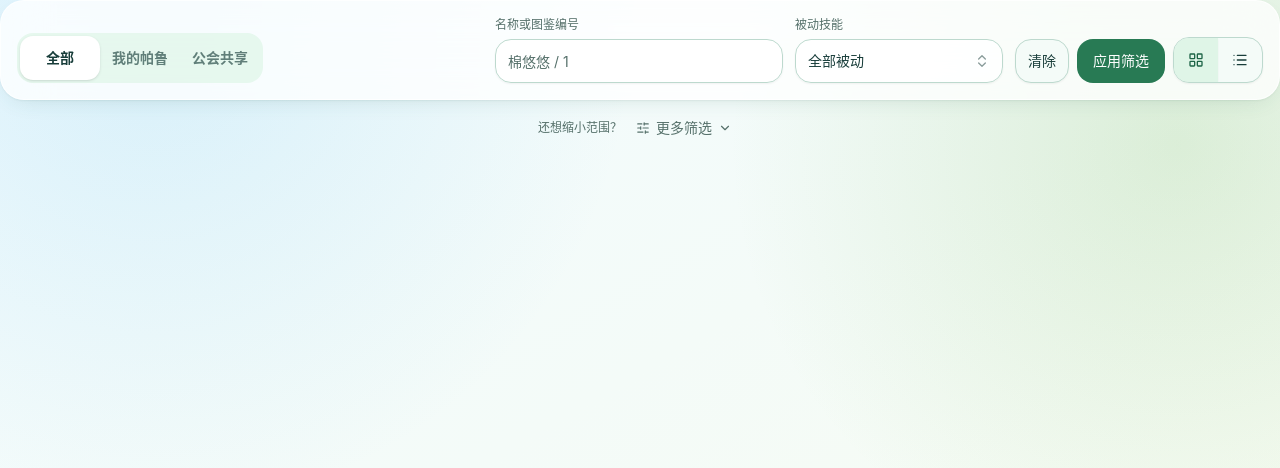
Scenario: pal inventory › keeps secondary filters tidy until more filters is requested
This screenshot has width=1280, height=468.
Expected: the link "全部" is shown, [20,36,100,80]
Expected: the link "我的帕鲁" is shown, [112,49,168,66]
Click the button "更多筛选". click: (684, 128)
box: [626,106,742,150]
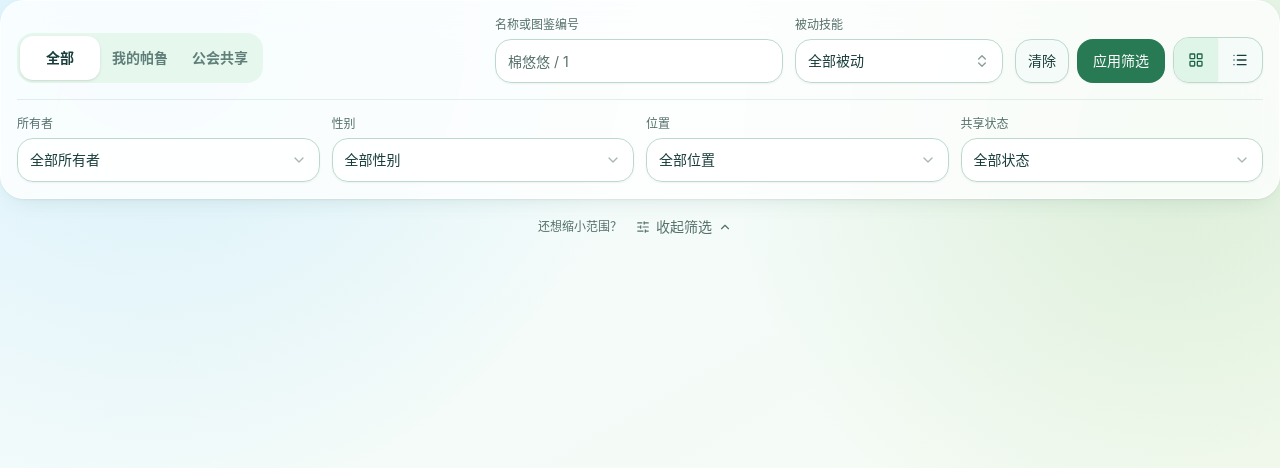
Expected: the button named "更多筛选" is expanded, [626,205,742,249]
Expected: the dropdown labelled "所有者" is shown, [17,138,320,182]
Expected: the dropdown labelled "性别" is shown, [332,138,634,182]
